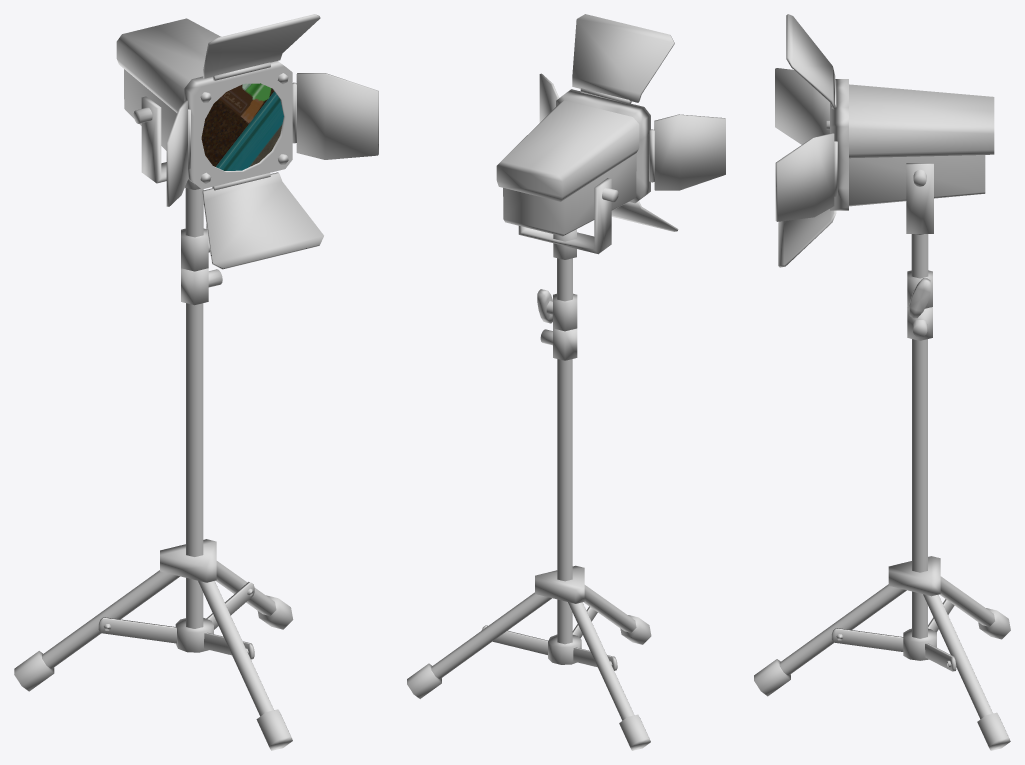
Rendered from studio_lamp.fbx.
3 renders of one model, left to right at view 1: azimuth 30°, elevation 25°; view 2: azimuth 150°, elevation 25°; view 3: azimuth 270°, elevation 25°, orthographic. The views are drawn at different scales.
Parts seen in each view (by area): view 1: headSpiral_low__mReBody, grid_low__mBody; view 2: headSpiral_low__mReBody; view 3: headSpiral_low__mReBody.
Part boxes in pixels (box(x1,y1,x2,y2)): headSpiral_low__mReBody: box(14, 14, 378, 750); grid_low__mBody: box(201, 83, 283, 170); headSpiral_low__mReBody: box(407, 14, 725, 750); headSpiral_low__mReBody: box(754, 14, 1010, 750).
Bounding box in the file's own units: 257 × 635 × 225.
